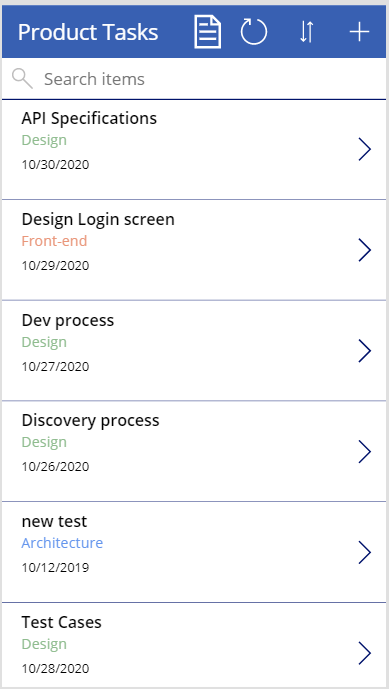

This screenshot's page, from the dashboard's own definition file:
{"tool":"powerbi","page":{"name":"Mobile","canvas":[550,700],"ordinal":1},"visuals":[{"type":"donutChart","title":"Tasks by Area","fields":{"Category":["Test.Area"],"Y":["CountNonNull(Test.ID)"]},"box":[34.2,209.1,489.1,435.4],"z":0},{"type":"textbox","title":"Product Tasks Dashboard","box":[3.4,0,572.6,51.4],"z":1000},{"type":"card","fields":{"Values":["Test.Design Tasks"]},"box":[49.3,67.5,115,119.4],"z":2000},{"type":"card","fields":{"Values":["Test.Architecture"]},"box":[164.3,67.5,115,119.4],"z":3000},{"type":"card","fields":{"Values":["Test.Frontend"]},"box":[279.4,67.5,115,119.4],"z":4000},{"type":"card","fields":{"Values":["CountNonNull(Test.ID)"]},"box":[394.4,67.5,115,119.4],"z":5000}]}

Visuals, with their boxes on the page's 550x700 design canvas (x1, y1, x2, y2). These are canvas units, not pixel positions in the 389x689 screenshot, which may show the page scaled, cropped or inside an application window:
"Tasks by Area" donutChart: 34, 209, 523, 644
"Product Tasks Dashboard" textbox: 3, 0, 576, 51
card - Test.Design Tasks: 49, 68, 164, 187
card - Test.Architecture: 164, 68, 279, 187
card - Test.Frontend: 279, 68, 394, 187
card - CountNonNull(Test.ID): 394, 68, 509, 187
